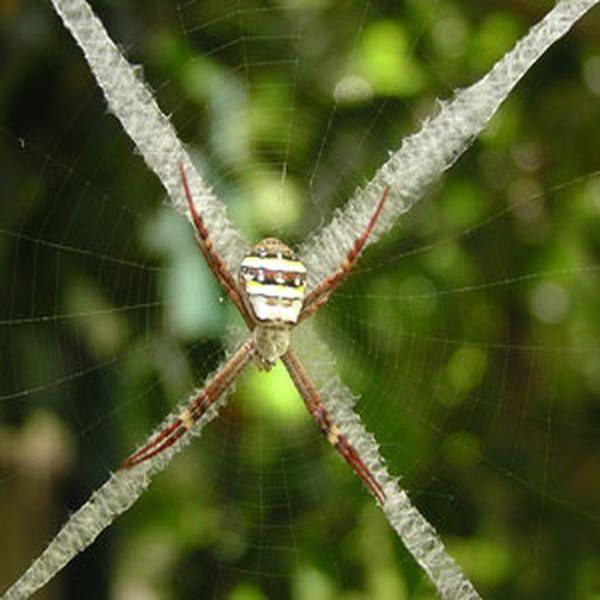St Andrew's Cross Spider: (129, 166, 389, 508)
